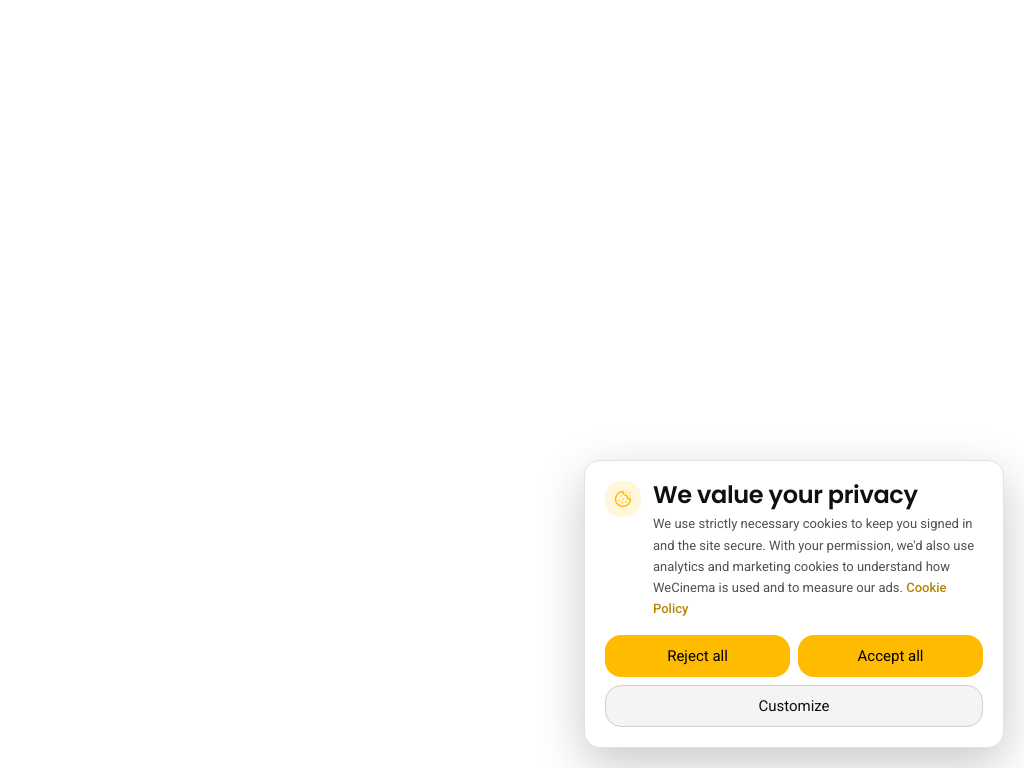
Test: CookieBanner › opens the settings dialog from Customize
Step 1. Click the button "Customize" → (794, 706), box [605,685,983,727]
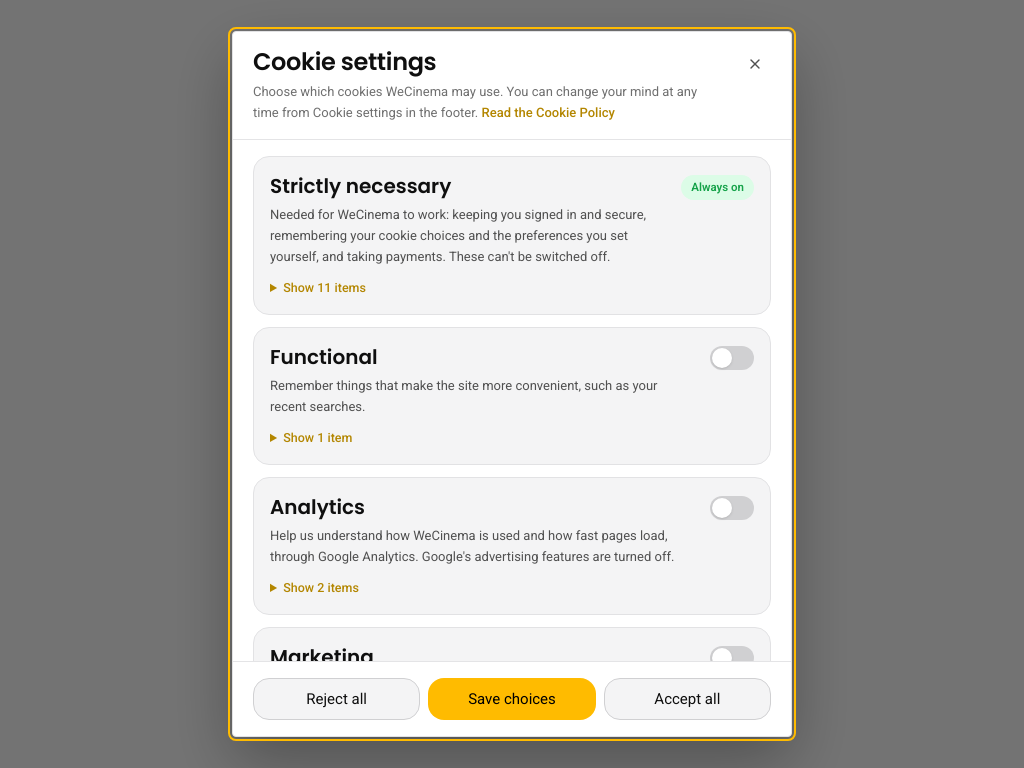
Now the dialog "Cookie settings" is shown, box [232,31,792,737]
